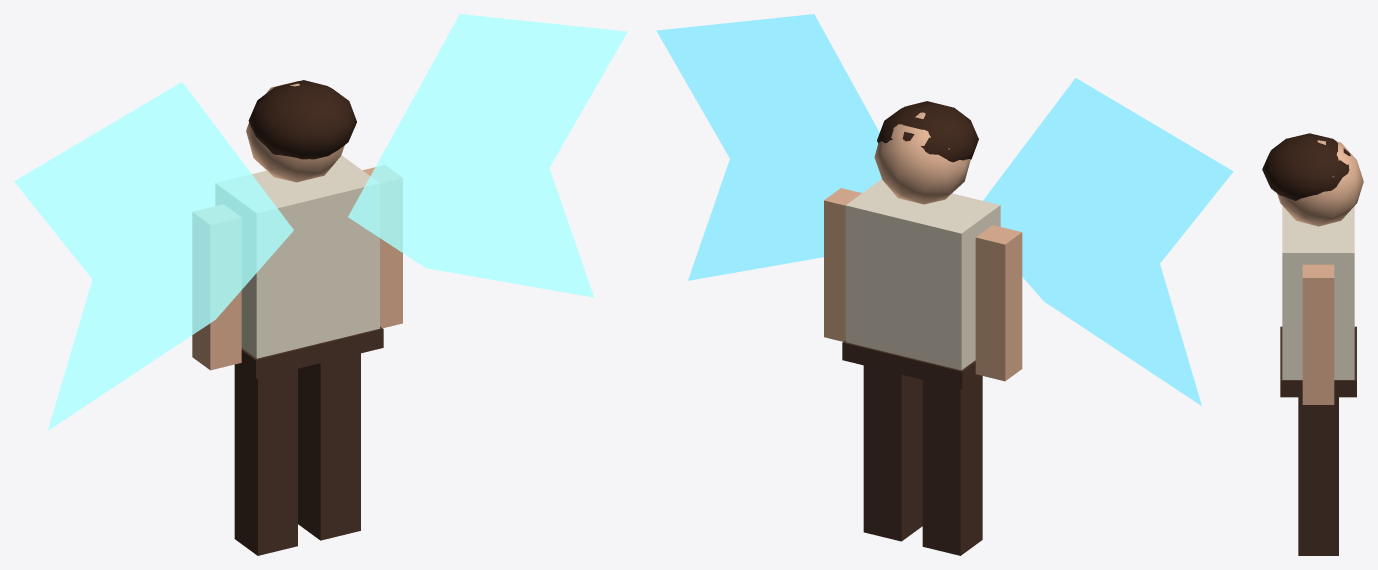
File: runner-with-crystalwings.glb
3 views of the same model, side by side, from view 1: azimuth 30°, elevation 25°; view 2: azimuth 150°, elevation 25°; view 3: azimuth 270°, elevation 25° (orthographic). The views are drawn at different scales.
Parts seen in each view (by area): view 1: Runner with Crystal Wings; view 2: Runner with Crystal Wings; view 3: Runner with Crystal Wings.
Boxes of the visible parts, x1=… form: Runner with Crystal Wings: x1=14, y1=14, x2=627, y2=555; Runner with Crystal Wings: x1=656, y1=14, x2=1233, y2=555; Runner with Crystal Wings: x1=1262, y1=133, x2=1363, y2=555.
Size of the model in its own units: 2.74 by 2.15 by 0.45.
